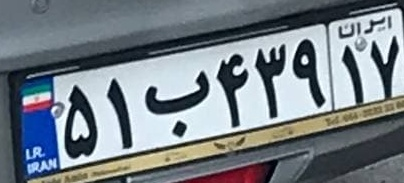character: (141, 65, 213, 140), (55, 84, 101, 161), (214, 47, 252, 129), (253, 40, 291, 122), (103, 70, 141, 151), (290, 34, 330, 110), (367, 30, 402, 99), (338, 40, 367, 107)
